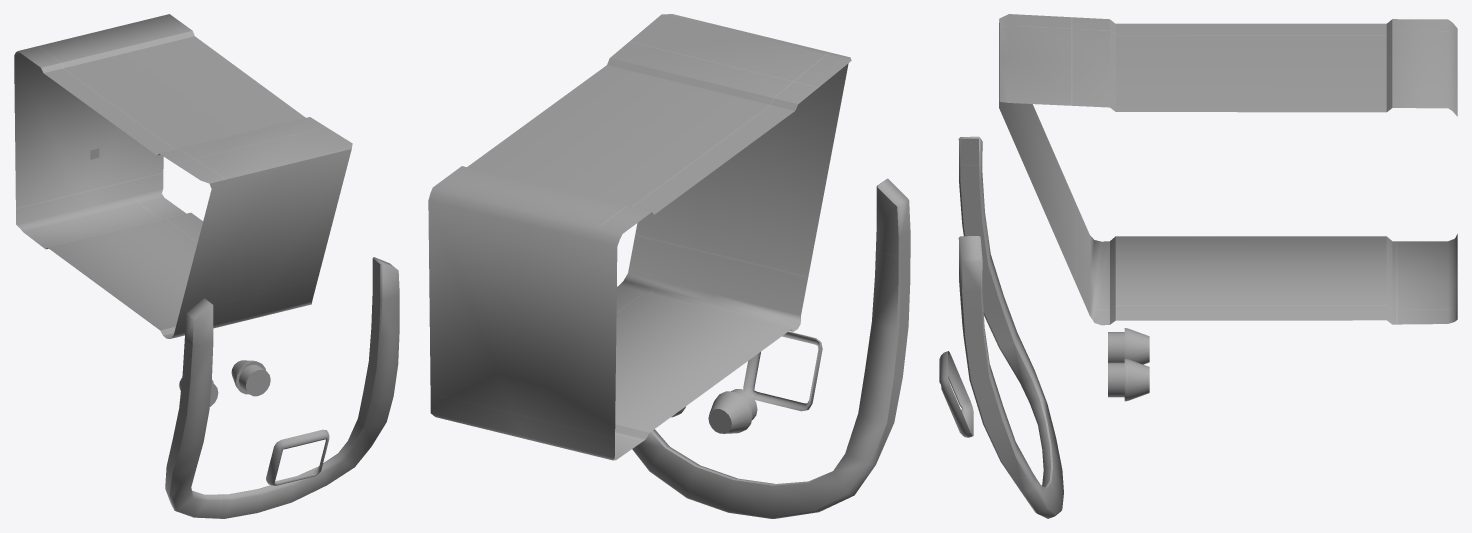
File: CoffeeMachine_17_CoffeeMachine_17_0_GeomSubset_2.obj
3 views of the same model, side by side, from view 1: azimuth 30°, elevation 25°; view 2: azimuth 150°, elevation 25°; view 3: azimuth 270°, elevation 25° (orthographic). The views are drawn at different scales.
Visible parts, largest first — view 1: CoffeeMachine_17_CoffeeMachine_17_0_GeomSubset_2; view 2: CoffeeMachine_17_CoffeeMachine_17_0_GeomSubset_2; view 3: CoffeeMachine_17_CoffeeMachine_17_0_GeomSubset_2.
Boxes of the visible parts, x1,y1,x2,y2 form: CoffeeMachine_17_CoffeeMachine_17_0_GeomSubset_2: [14, 14, 399, 518]; CoffeeMachine_17_CoffeeMachine_17_0_GeomSubset_2: [428, 14, 910, 518]; CoffeeMachine_17_CoffeeMachine_17_0_GeomSubset_2: [939, 14, 1457, 518].
Bounding box in the file's own units: 0.2401 × 0.3911 × 0.4189.
